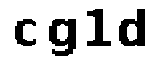1: (84, 5, 113, 49)
c: (8, 16, 39, 51)
d: (118, 6, 147, 51)
g: (46, 14, 80, 60)
